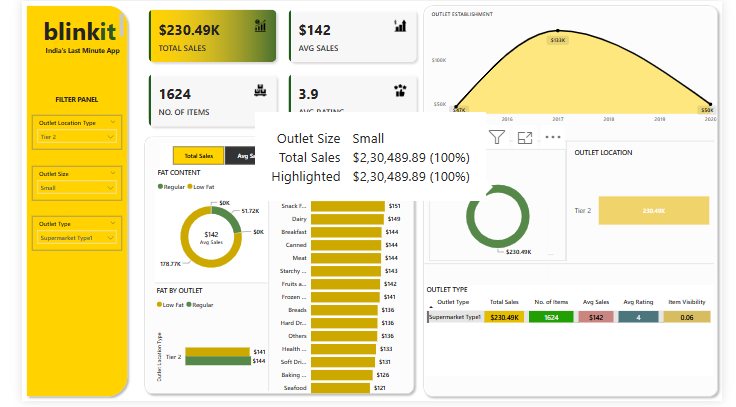

The dashboard page shown, as its layout file describes it:
{"tool":"powerbi","page":{"name":"Page 1","canvas":[1400,800],"ordinal":0},"visuals":[{"type":"shape","box":[0,0,220,800],"z":0},{"type":"textbox","box":[268.1,250,147.2,500],"z":1000},{"type":"textbox","box":[29.2,20.8,177.8,63.9],"z":2000},{"type":"textbox","box":[31.9,84.7,177.8,31.9],"z":3000},{"type":"cardVisual","fields":{"Data":["BlinkIT Grocery Data.Total Sales","BlinkIT Grocery Data.Avg Sales","BlinkIT Grocery Data.No. of Items","BlinkIT Grocery Data.Avg Rating"]},"box":[236.7,0,571.4,269.4],"z":4000},{"type":"shape","box":[236.7,261.2,557.1,532.7],"z":5000},{"type":"donutChart","title":"FAT CONTENT","fields":{"Y":["BlinkIT Grocery Data.Total Sales","Sum(BlinkIT Grocery Data.Sales)"],"Category":["BlinkIT Grocery Data.Item Fat Content"]},"box":[265.2,333.3,224.6,230.4],"z":6000},{"type":"slicer","fields":{"Values":["Metrics 2.Metrics"]},"box":[275,283.9,464.3,50],"z":7000},{"type":"cardVisual","fields":{"Data":["BlinkIT Grocery Data.Total Sales"]},"box":[319.6,439.3,117.9,60.7],"z":8000},{"type":"clusteredBarChart","title":"FAT BY OUTLET","fields":{"Y":["BlinkIT Grocery Data.Total Sales"],"Series":["BlinkIT Grocery Data.Item Fat Content"],"Category":["BlinkIT Grocery Data.Outlet Location Type"]},"box":[263.8,569.6,227.5,230.4],"z":9000},{"type":"shape","box":[928.9,408.9,244.4,148.9],"z":10000},{"type":"shape","box":[487.5,333.9,10.7,446.4],"z":11000},{"type":"barChart","title":"ITEM TYPE","fields":{"Y":["BlinkIT Grocery Data.Total Sales"],"Category":["BlinkIT Grocery Data.Item Type"]},"box":[498.2,333.9,267.9,466.1],"z":12000},{"type":"shape","box":[793.3,0,606.7,800],"z":13000},{"type":"lineChart","title":"OUTLET ESTABLISHMENT","fields":{"Y":["BlinkIT Grocery Data.Total Sales"],"Category":["BlinkIT Grocery Data.Outlet Establishment Year"]},"box":[813.3,17.8,580,235.6],"z":14000},{"type":"shape","box":[265.2,558,224.6,11.6],"z":15000},{"type":"shape","box":[1051.1,284.4,11.1,446.7],"z":16000},{"type":"shape","box":[804.4,268.9,580,24.4],"z":17000},{"type":"donutChart","title":"OUTLET SIZE","fields":{"Y":["BlinkIT Grocery Data.Total Sales"],"Category":["BlinkIT Grocery Data.Outlet Size"]},"box":[813.3,295.6,275.6,224.4],"z":18000},{"type":"shape","box":[1082.2,280,13.3,240],"z":19000},{"type":"funnel","title":" OUTLET LOCATION","fields":{"Y":["Sum(BlinkIT Grocery Data.Sales)"],"Category":["BlinkIT Grocery Data.Outlet Location Type"]},"box":[1100,293.3,284.4,231.1],"z":20000},{"type":"shape","box":[804.4,511.1,580,26.7],"z":21000},{"type":"pivotTable","title":"OUTLET TYPE","fields":{"Rows":["BlinkIT Grocery Data.Outlet Type"],"Values":["BlinkIT Grocery Data.Total Sales","BlinkIT Grocery Data.No. of Items","BlinkIT Grocery Data.Avg Sales","BlinkIT Grocery Data.Avg Rating","Avg(BlinkIT Grocery Data.Item Visibility)"]},"box":[804.4,568.9,580,182.2],"z":22000},{"type":"slicer","fields":{"Values":["BlinkIT Grocery Data.Outlet Location Type"]},"box":[20.4,228.6,179.6,69.4],"z":23000},{"type":"slicer","fields":{"Values":["BlinkIT Grocery Data.Outlet Size"]},"box":[20.4,330.6,179.6,69.4],"z":24000},{"type":"slicer","fields":{"Values":["BlinkIT Grocery Data.Outlet Type"]},"box":[20.4,430.6,179.6,69.4],"z":25000},{"type":"textbox","box":[20,181.7,178.3,31.7],"z":26000}]}

Visuals, with their boxes on the page's 1400x800 design canvas (x1, y1, x2, y2). These are canvas units, not pixel positions in the 736x407 screenshot, which may show the page scaled, cropped or inside an application window:
shape: 0/0/220/800
textbox: 268/250/415/750
textbox: 29/21/207/85
textbox: 32/85/210/117
cardVisual - BlinkIT Grocery Data.Total Sales x BlinkIT Grocery Data.Avg Sales: 237/0/808/269
shape: 237/261/794/794
"FAT CONTENT" donutChart: 265/333/490/564
slicer - Metrics 2.Metrics: 275/284/739/334
cardVisual - BlinkIT Grocery Data.Total Sales: 320/439/438/500
"FAT BY OUTLET" clusteredBarChart: 264/570/491/800
shape: 929/409/1173/558
shape: 488/334/498/780
"ITEM TYPE" barChart: 498/334/766/800
shape: 793/0/1400/800
"OUTLET ESTABLISHMENT" lineChart: 813/18/1393/253
shape: 265/558/490/570
shape: 1051/284/1062/731
shape: 804/269/1384/293
"OUTLET SIZE" donutChart: 813/296/1089/520
shape: 1082/280/1096/520
" OUTLET LOCATION" funnel: 1100/293/1384/524
shape: 804/511/1384/538
"OUTLET TYPE" pivotTable: 804/569/1384/751
slicer - BlinkIT Grocery Data.Outlet Location Type: 20/229/200/298
slicer - BlinkIT Grocery Data.Outlet Size: 20/331/200/400
slicer - BlinkIT Grocery Data.Outlet Type: 20/431/200/500
textbox: 20/182/198/213
